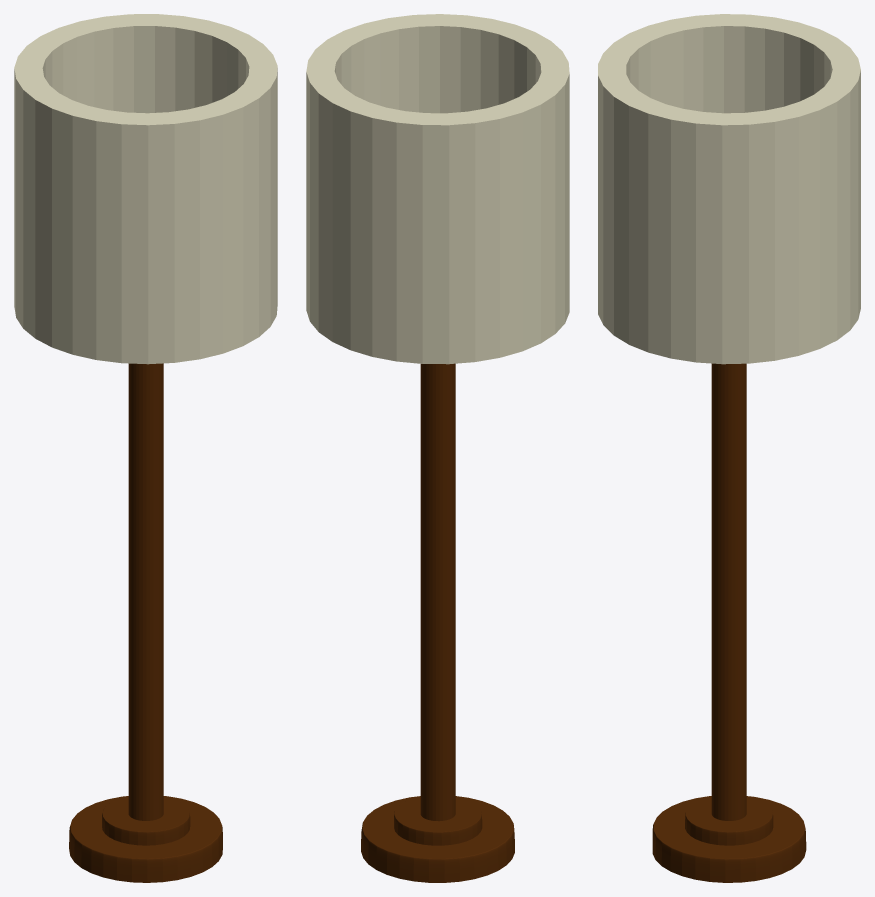
Rendered from Abajur2.fbx.
The picture shows the model from 3 angles, left to right: view 1: azimuth 30°, elevation 25°; view 2: azimuth 150°, elevation 25°; view 3: azimuth 270°, elevation 25°; orthographic projection.
Parts seen in each view (by area): view 1: Cylinder.027; view 2: Cylinder.027; view 3: Cylinder.027.
Part boxes in pixels (x1,y1,x2,y2): Cylinder.027: [14, 14, 277, 882]; Cylinder.027: [306, 14, 569, 882]; Cylinder.027: [598, 14, 860, 882].
Bounding box in the file's own units: 205 × 672 × 205.
